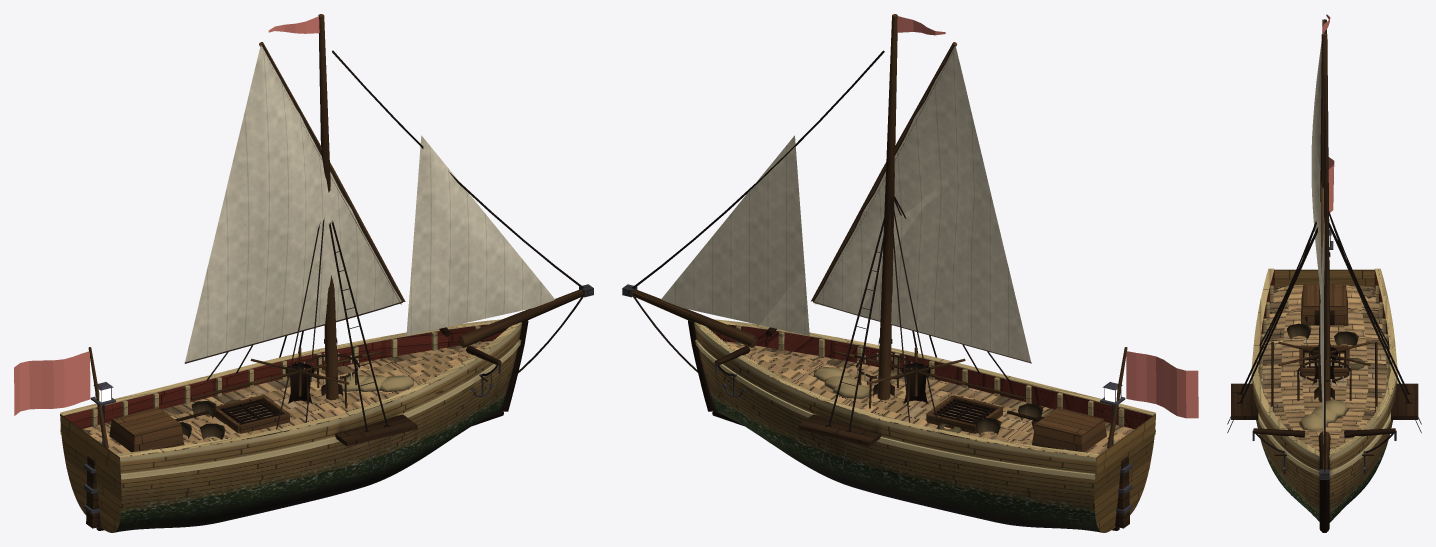
The model's file is tartane.glb.
3 views of the same model, side by side, from view 1: azimuth 30°, elevation 25°; view 2: azimuth 150°, elevation 25°; view 3: azimuth 270°, elevation 25° (orthographic). The views are drawn at different scales.
Parts seen in each view (by area): view 1: LOD0_Body, LOD0_m0_AftSail, LOD0_Wood, LOD0_Jib, LOD2_Wood, LOD2_Body, LOD0_Flag, LOD1_m0_AftSail, LOD1_Wood, LOD2_m0_AftSail, LOD1_Jib, LOD1_Body (+2 smaller); view 2: LOD0_Body, LOD2_m0_AftSail, LOD0_Wood, LOD2_Jib, LOD2_Wood, LOD2_Body, LOD0_Flag, LOD0_m0_AftSail, LOD1_Wood, LOD1_m0_AftSail, LOD1_Body, LOD1_Jib (+1 smaller); view 3: LOD0_Wood, LOD2_Body, LOD0_Body, LOD2_Wood, LOD0_m0_AftSail, LOD1_Wood, LOD1_Body, LOD2_m0_AftYards, LOD0_Jib, LOD0_Flag, LOD1_m0_AftSail.
Part boxes in pixels (x1,y1,x2,y2): LOD0_Body: (60,323,522,532); LOD0_m0_AftSail: (185,45,358,362); LOD0_Wood: (60,14,593,532); LOD0_Jib: (406,135,548,335); LOD2_Wood: (60,14,580,523); LOD2_Body: (60,323,521,530); LOD0_Flag: (14,16,319,415); LOD1_m0_AftSail: (186,51,401,359); LOD1_Wood: (61,14,582,532); LOD2_m0_AftSail: (186,219,401,359); LOD1_Jib: (406,193,554,334); LOD1_Body: (83,324,520,531); LOD0_Body: (694,246,1155,532); LOD2_m0_AftSail: (814,45,1030,361); LOD0_Wood: (622,14,1155,532); LOD2_Jib: (661,135,808,335); LOD2_Wood: (634,14,1155,517); LOD2_Body: (695,323,1155,530); LOD0_Flag: (897,16,1198,418); LOD0_m0_AftSail: (814,85,1031,362); LOD1_Wood: (633,14,1153,532); LOD1_m0_AftSail: (813,61,1030,361); LOD1_Body: (694,323,1100,531); LOD1_Jib: (759,269,809,335); LOD0_Wood: (1231,33,1418,532); LOD2_Body: (1253,285,1395,522); LOD0_Body: (1227,229,1421,521); LOD2_Wood: (1252,33,1396,531); LOD0_m0_AftSail: (1311,23,1324,276); LOD1_Wood: (1252,33,1396,531); LOD1_Body: (1253,290,1396,521); LOD2_m0_AftYards: (1323,19,1328,359); LOD0_Jib: (1320,217,1324,393); LOD0_Flag: (1322,14,1334,212); LOD1_m0_AftSail: (1312,136,1323,261).
Size of the model in its own units: 17.09 by 13.43 by 5.35.
Materials: 5 (3 with a texture image).
